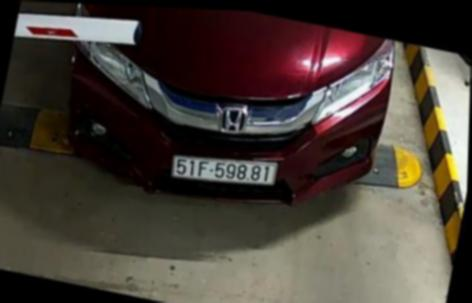License_Plate: (168, 152, 280, 190)
